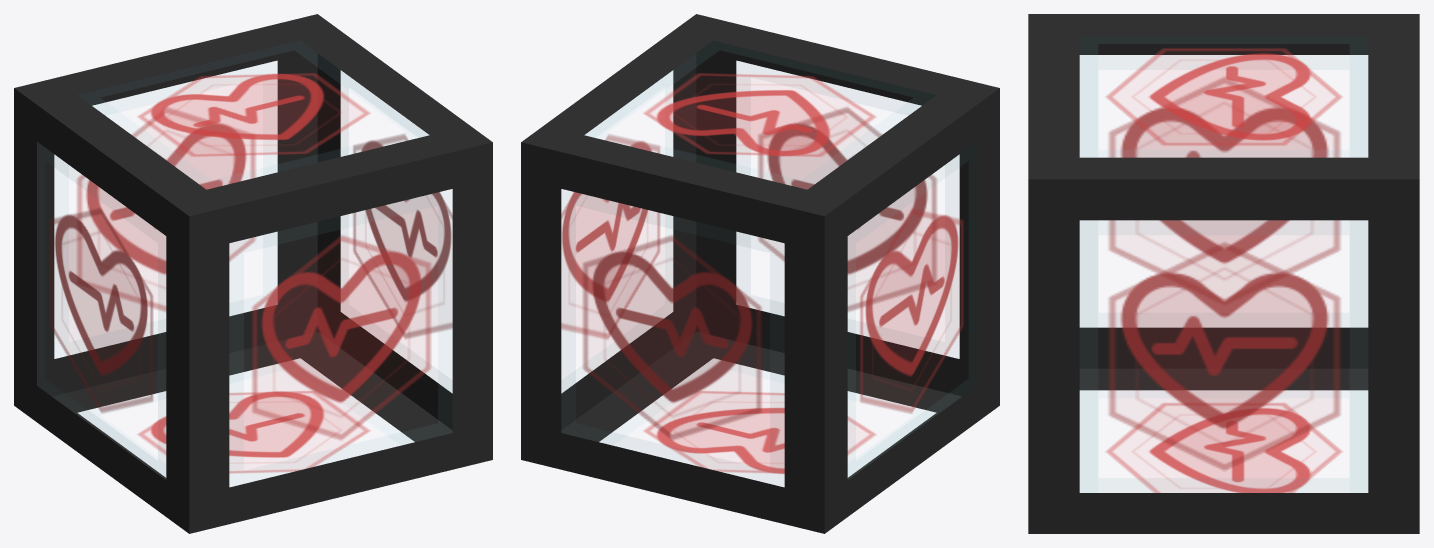
File: Stat_Item.fbx
3 views of the same model, side by side, from view 1: azimuth 30°, elevation 25°; view 2: azimuth 150°, elevation 25°; view 3: azimuth 270°, elevation 25° (orthographic). The views are drawn at different scales.
Parts seen in each view (by area): view 1: Cube; view 2: Cube; view 3: Cube.
Part boxes in pixels (x1,y1,x2,y2): Cube: [14, 14, 492, 533]; Cube: [521, 14, 999, 533]; Cube: [1028, 14, 1419, 533].
Size of the model in its own units: 200 by 200 by 200.
Materials: 3 (1 with a texture image).
